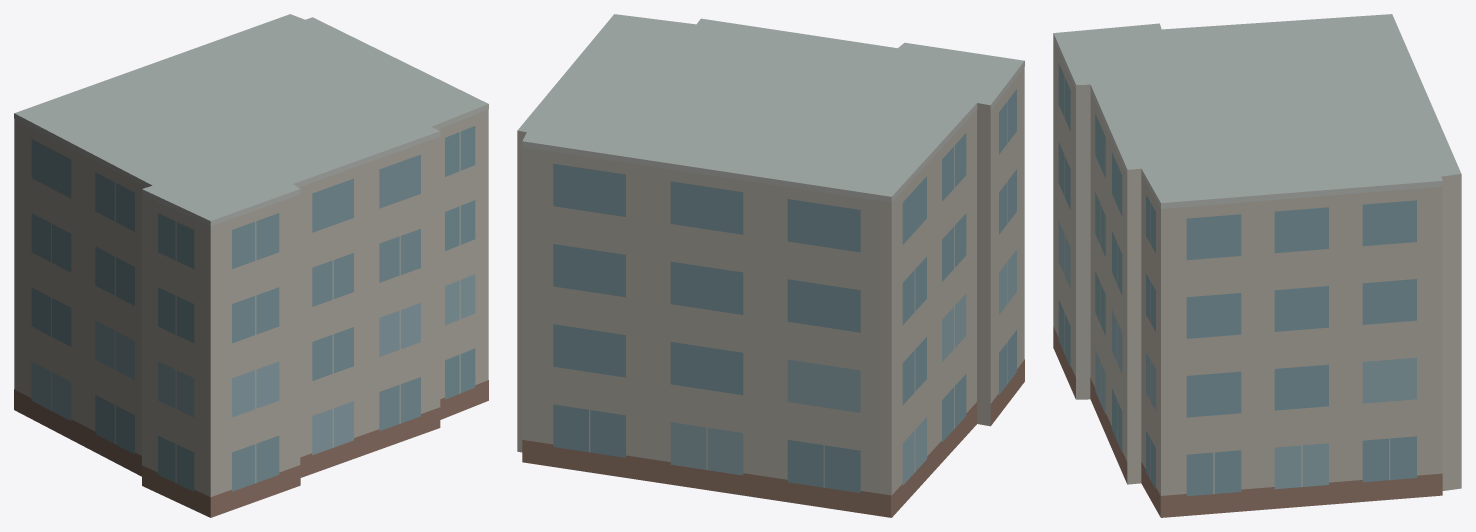
The model's file is survey-upis-32638251.glb.
The picture shows the model from 3 angles, left to right: view 1: azimuth 30°, elevation 25°; view 2: azimuth 150°, elevation 25°; view 3: azimuth 270°, elevation 25°; orthographic projection. The views are drawn at different scales.
Visible parts, largest first — view 1: survey-upis-32638251.tmp; view 2: survey-upis-32638251.tmp; view 3: survey-upis-32638251.tmp.
Boxes of the visible parts, left/top/right/bottom form: survey-upis-32638251.tmp: left=14, top=14, right=488, bottom=517; survey-upis-32638251.tmp: left=517, top=14, right=1024, bottom=517; survey-upis-32638251.tmp: left=1053, top=14, right=1461, bottom=517.
Bounding box in the file's own units: 17.03 × 13.2 × 15.52.
